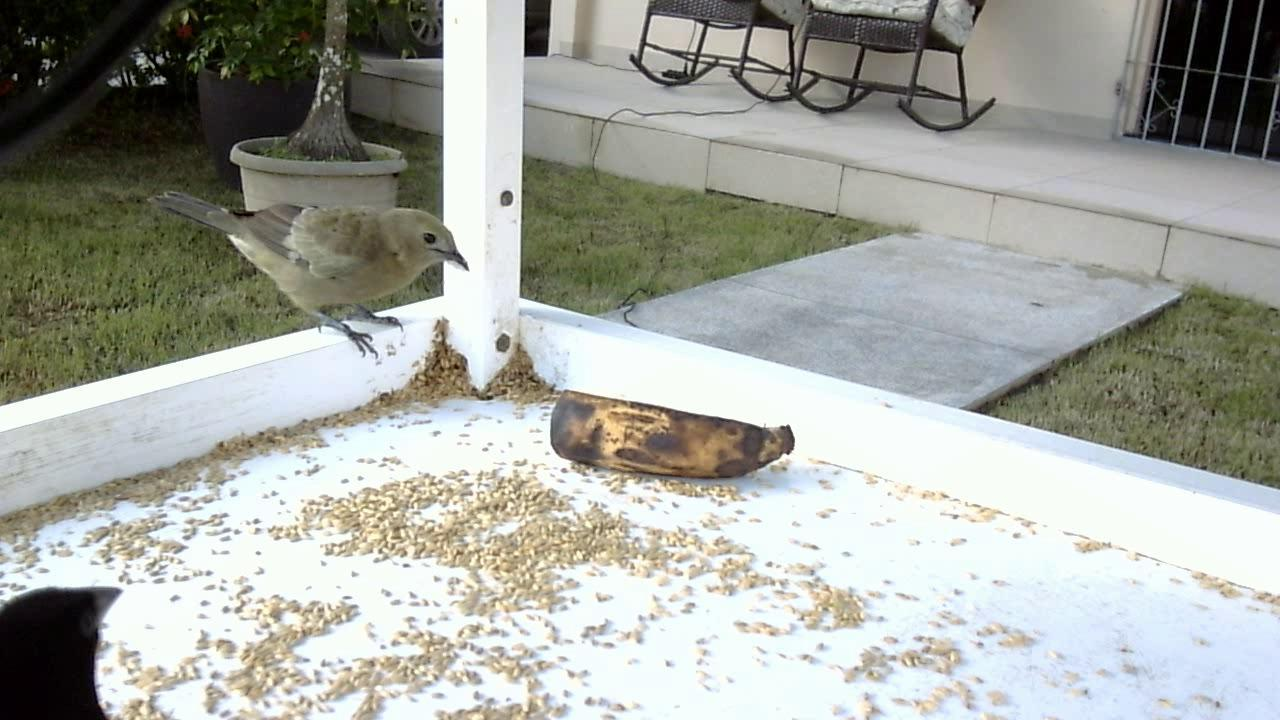chupim: (1, 568, 149, 715)
sanhaco_do_coqueiro: (148, 187, 474, 370)
